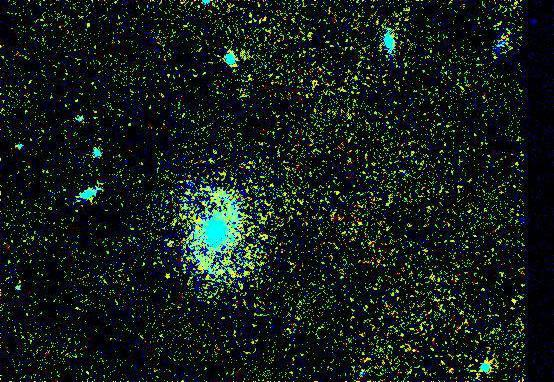star: (155, 228, 185, 258)
